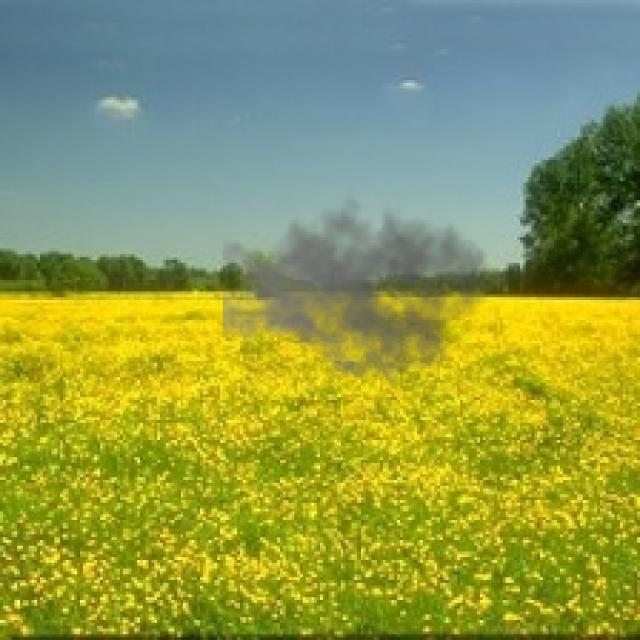smoke: (223, 185, 491, 388)
